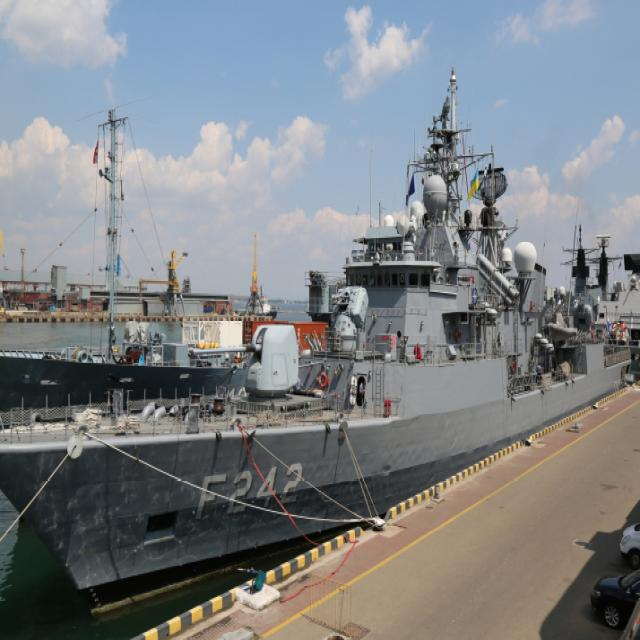Fragata: (1, 45, 637, 623)
